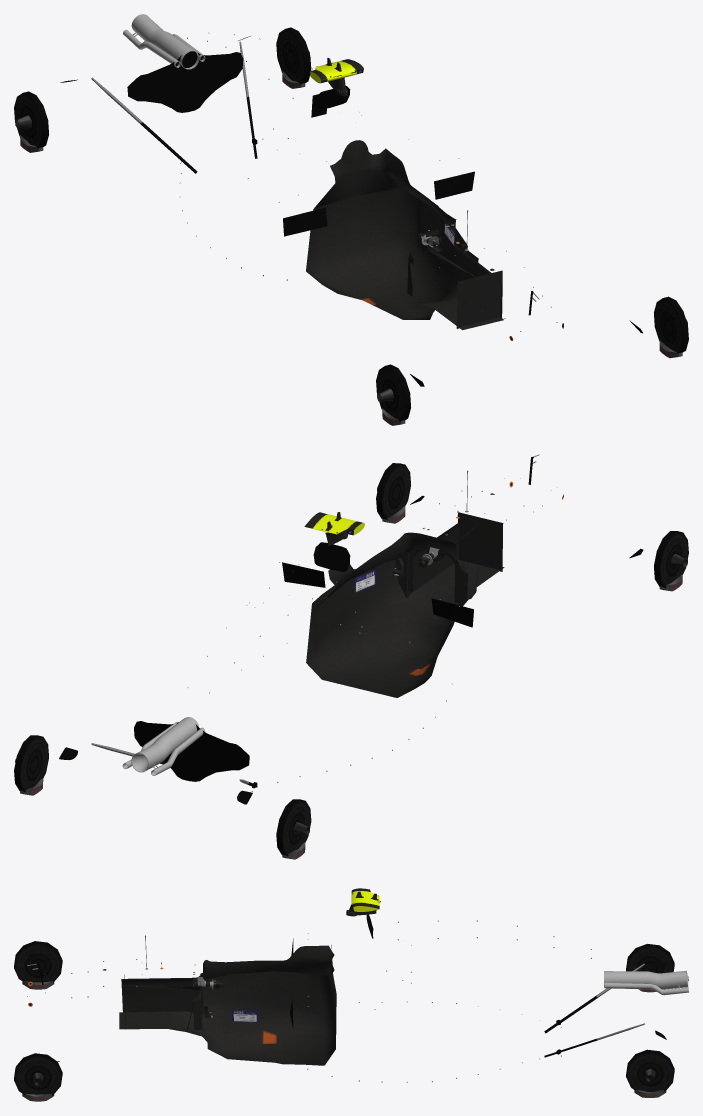
Rendered from F1_21-02_03_Extras.fbx.
The picture shows the model from 3 angles, top to bottom: view 1: azimuth 30°, elevation 25°; view 2: azimuth 150°, elevation 25°; view 3: azimuth 270°, elevation 25°; orthographic projection. The views are drawn at different scales.
Visible parts, largest first — view 1: Extras, Silencer; view 2: Extras, Silencer; view 3: Extras, Silencer.
Boxes of the visible parts, x1,y1,x2,y2 form: Extras: (14,27,688,425); Silencer: (123,14,205,69); Extras: (14,454,688,859); Silencer: (122,717,204,775); Extras: (14,888,679,1101); Silencer: (604,970,688,995).
Size of the model in its own units: 1.77 by 1.08 by 4.08.
